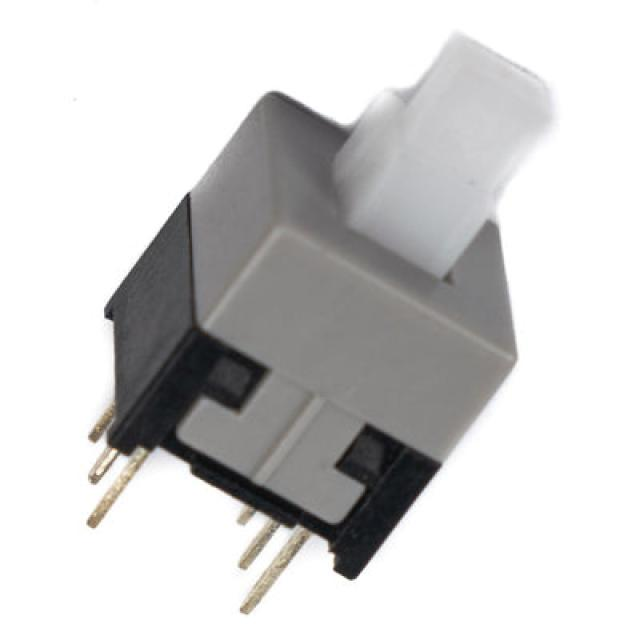switch: (90, 43, 548, 609)
